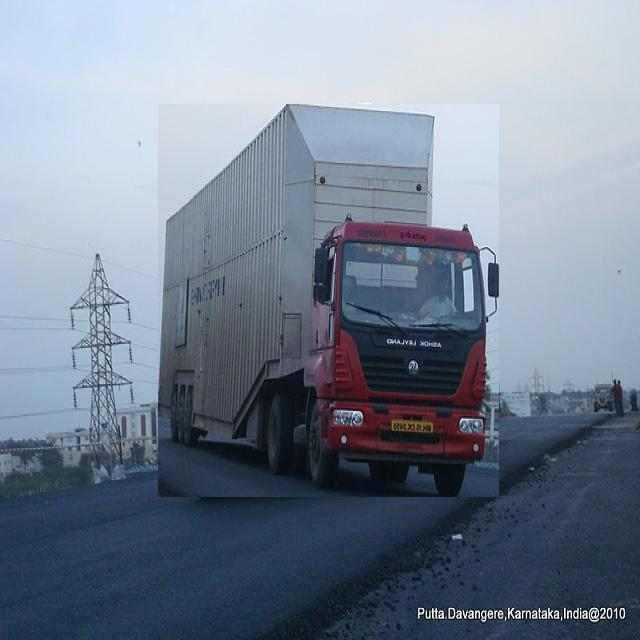truck: (159, 105, 499, 497)
